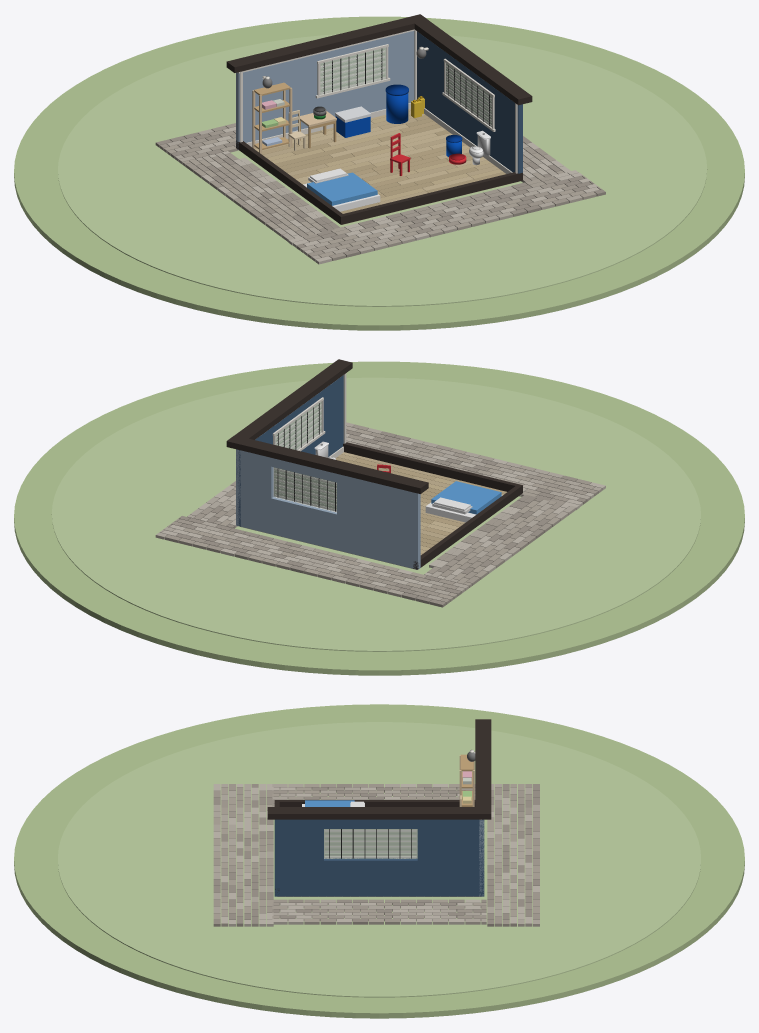
File: single-room.glb
3 views of the same model, one above another, from view 1: azimuth 30°, elevation 25°; view 2: azimuth 150°, elevation 25°; view 3: azimuth 270°, elevation 25° (orthographic).
Visible parts, largest first — view 1: GrassInner, Grass, GrassInner.001, Wall, RoofL, RoofR, FrontWall, Wall.004, Wall.005, Wall.001, Wall.002, Mattress (+6 smaller); view 2: GrassInner, Grass, GrassInner.001, Wall, Wall.001, RoofL, Wall.002, RoofR, FrontWall, Wall.004, SideWall, Mattress (+3 smaller); view 3: GrassInner, GrassInner.001, Grass, Wall.005, Wall.004, Wall.006, RoofR, WinGlass.001, RoofL, Wall.007, SideWall.
Boxes of the visible parts, bbox=[...] form: GrassInner: bbox=[58, 35, 700, 306]; Grass: bbox=[14, 16, 744, 330]; GrassInner.001: bbox=[71, 34, 707, 304]; Wall: bbox=[236, 54, 319, 149]; RoofL: bbox=[226, 14, 427, 72]; RoofR: bbox=[408, 14, 532, 105]; FrontWall: bbox=[338, 172, 522, 224]; Wall.004: bbox=[493, 87, 522, 173]; Wall.005: bbox=[417, 31, 446, 123]; Wall.001: bbox=[385, 31, 414, 108]; Wall.002: bbox=[319, 82, 385, 116]; Mattress: bbox=[307, 172, 377, 205]; GrassInner: bbox=[58, 379, 700, 651]; Grass: bbox=[14, 361, 744, 675]; GrassInner.001: bbox=[51, 377, 694, 649]; Wall: bbox=[337, 474, 420, 569]; Wall.001: bbox=[236, 449, 273, 533]; RoofL: bbox=[227, 435, 428, 493]; Wall.002: bbox=[271, 496, 336, 549]; RoofR: bbox=[226, 359, 352, 450]; FrontWall: bbox=[343, 442, 522, 494]; Wall.004: bbox=[321, 375, 343, 456]; SideWall: bbox=[413, 485, 522, 569]; Mattress: bbox=[431, 481, 501, 514]; GrassInner: bbox=[58, 722, 700, 993]; GrassInner.001: bbox=[58, 725, 700, 997]; Grass: bbox=[14, 704, 744, 1018]; Wall.005: bbox=[417, 819, 484, 896]; Wall.004: bbox=[274, 819, 323, 896]; Wall.006: bbox=[324, 858, 417, 896]; RoofR: bbox=[267, 807, 475, 819]; WinGlass.001: bbox=[324, 829, 417, 858]; RoofL: bbox=[475, 719, 491, 819]; Wall.007: bbox=[324, 819, 417, 828]; SideWall: bbox=[279, 800, 475, 806].
Bounding box in the file's own units: 25 × 3.68 × 25.
